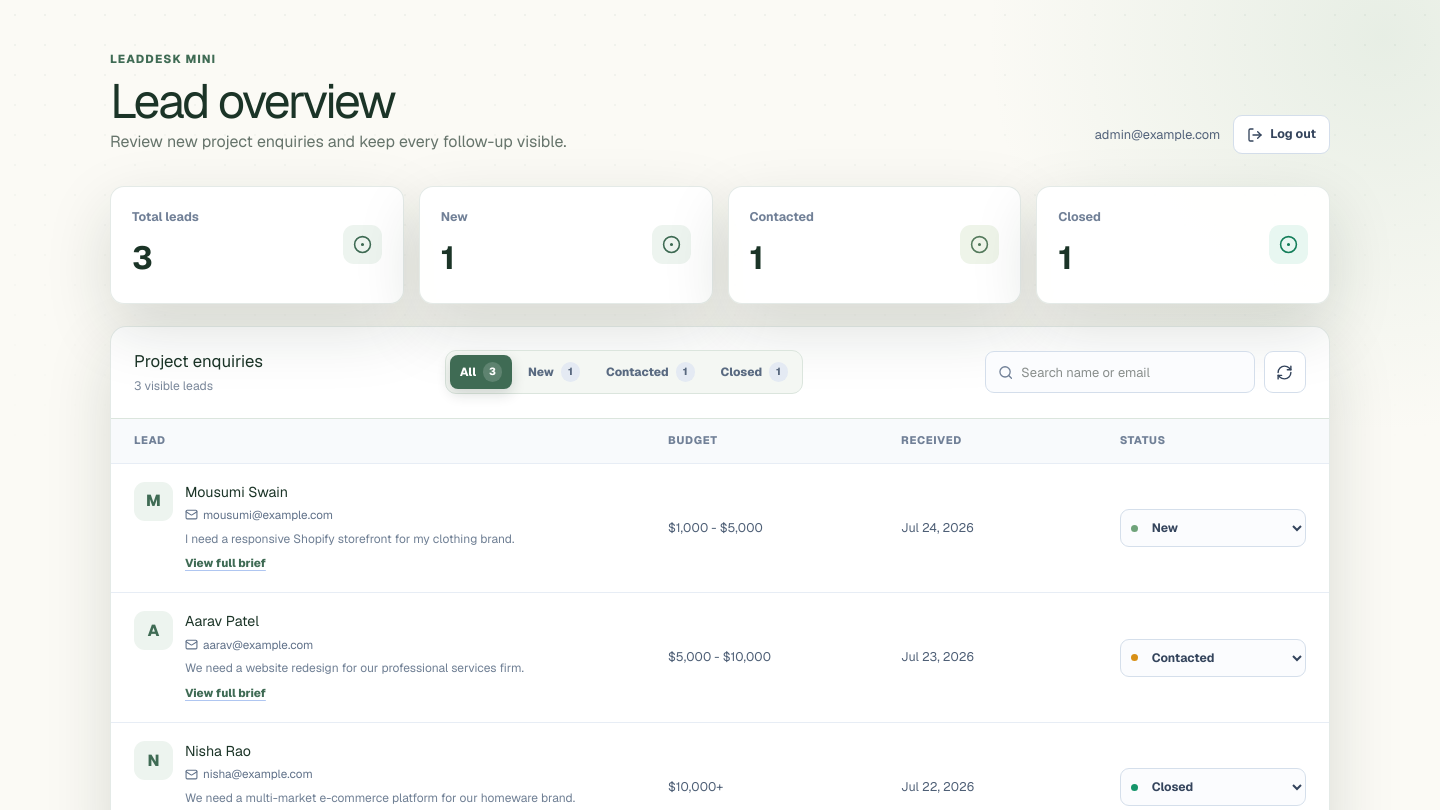
Test: AdminDashboard › closes the project brief with Escape
Expected: the heading "Mousumi Swain" is shown, top-left (185, 483), bottom-right (288, 501)
Step 1. Click the button with aria-label "View full brief from Mousumi Swain" → coordinates (225, 563), box top-left (185, 554), bottom-right (266, 572)
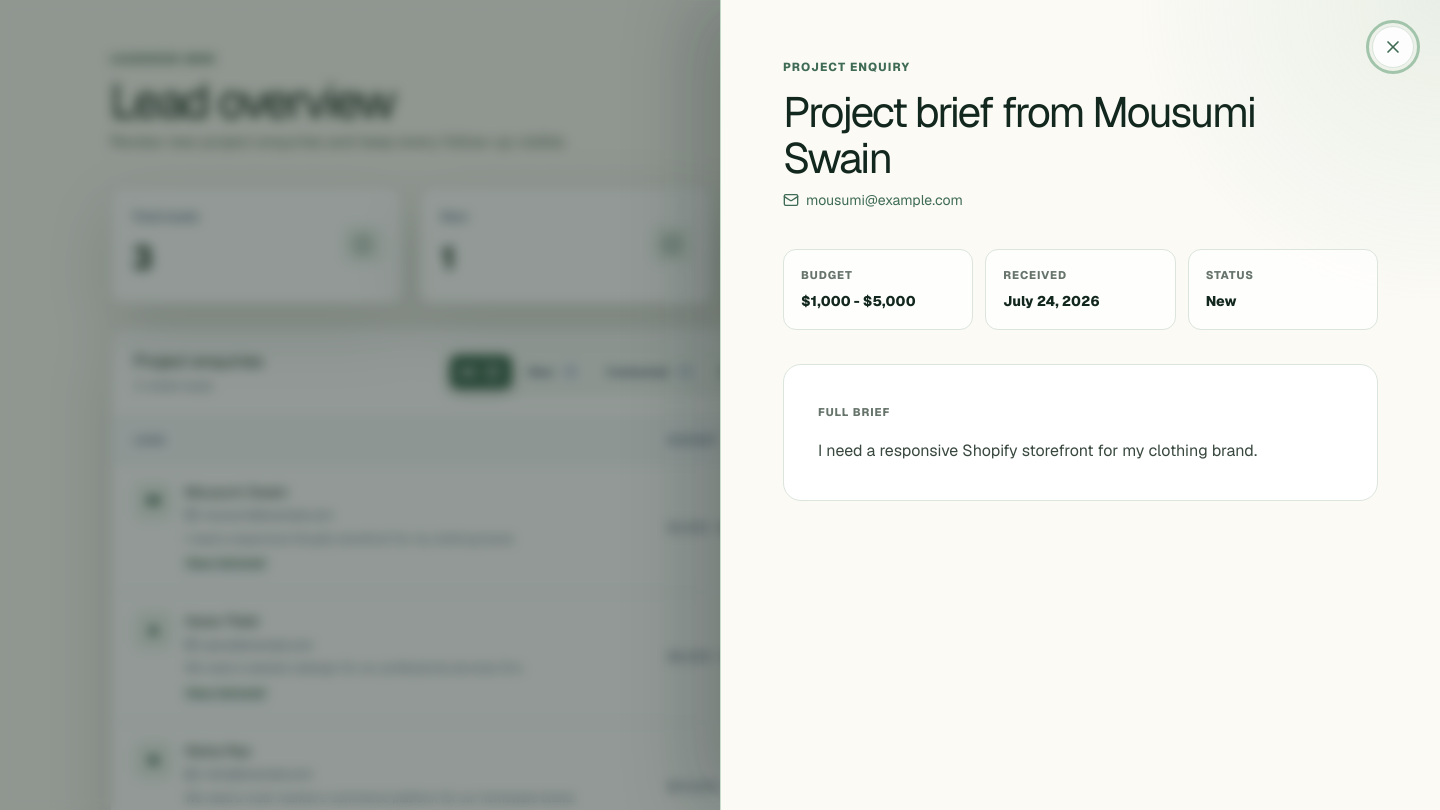
Now the dialog is shown, box top-left (720, 0), bottom-right (1439, 809)
Step 2. Press Escape
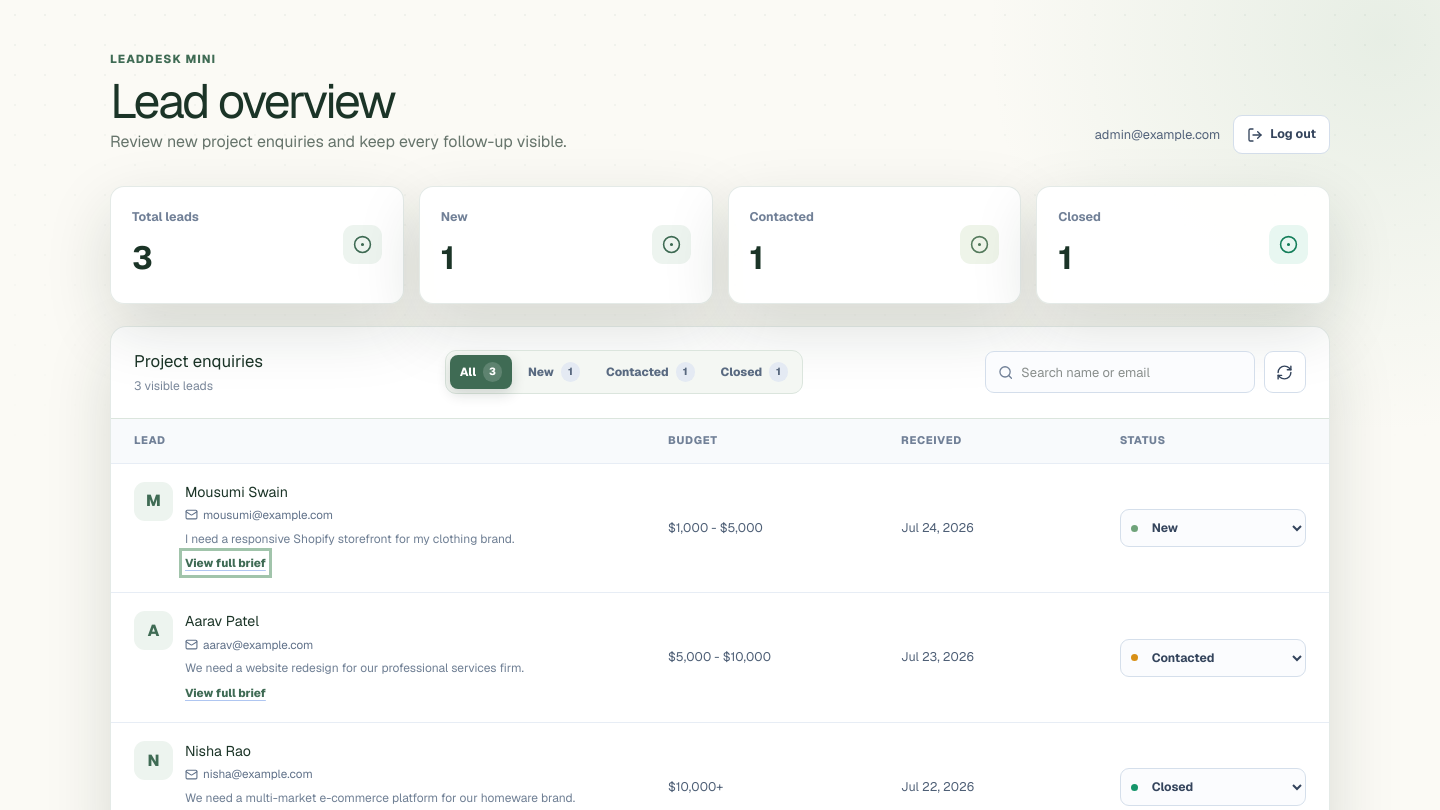
Now the dialog is gone
